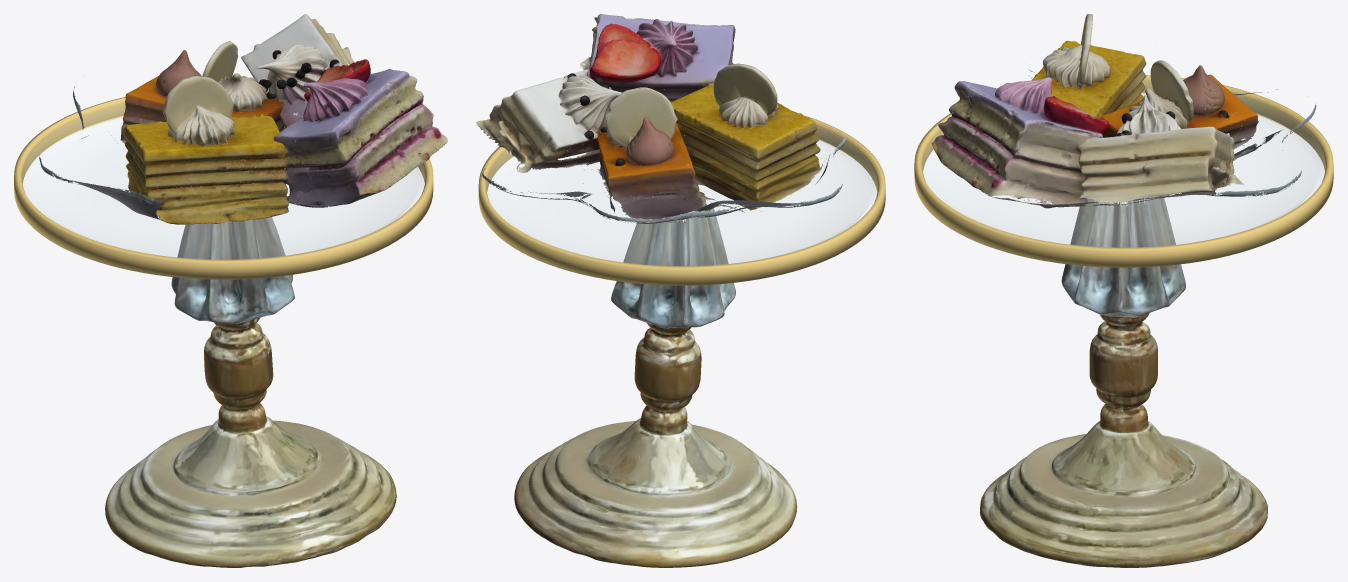
The model's file is mini_pirojniy.glb.
The picture shows the model from 3 angles, left to right: view 1: azimuth 30°, elevation 25°; view 2: azimuth 150°, elevation 25°; view 3: azimuth 270°, elevation 25°; orthographic projection. The views are drawn at different scales.
Visible parts, largest first — view 1: stend_tilla, tripo_node_d3372f0f-091c-445a-b672-baaf50c28a41, plate_glass, plate_rim; view 2: stend_tilla, tripo_node_d3372f0f-091c-445a-b672-baaf50c28a41, plate_glass, plate_rim; view 3: stend_tilla, tripo_node_d3372f0f-091c-445a-b672-baaf50c28a41, plate_glass, plate_rim.
Part boxes in pixels (left/top/right/bottom): stend_tilla: left=105, top=217, right=396, bottom=567; tripo_node_d3372f0f-091c-445a-b672-baaf50c28a41: left=39, top=14, right=447, bottom=224; plate_glass: left=22, top=104, right=424, bottom=259; plate_rim: left=14, top=97, right=433, bottom=279; stend_tilla: left=514, top=201, right=797, bottom=567; tripo_node_d3372f0f-091c-445a-b672-baaf50c28a41: left=476, top=14, right=846, bottom=223; plate_glass: left=486, top=127, right=877, bottom=266; plate_rim: left=478, top=114, right=885, bottom=285; stend_tilla: left=980, top=196, right=1267, bottom=567; tripo_node_d3372f0f-091c-445a-b672-baaf50c28a41: left=931, top=14, right=1316, bottom=208; plate_glass: left=922, top=81, right=1325, bottom=247; plate_rim: left=914, top=75, right=1333, bottom=267.
Bounding box in the file's own units: 1.03 × 1.26 × 1.03.
Materials: 4 (2 with a texture image).
